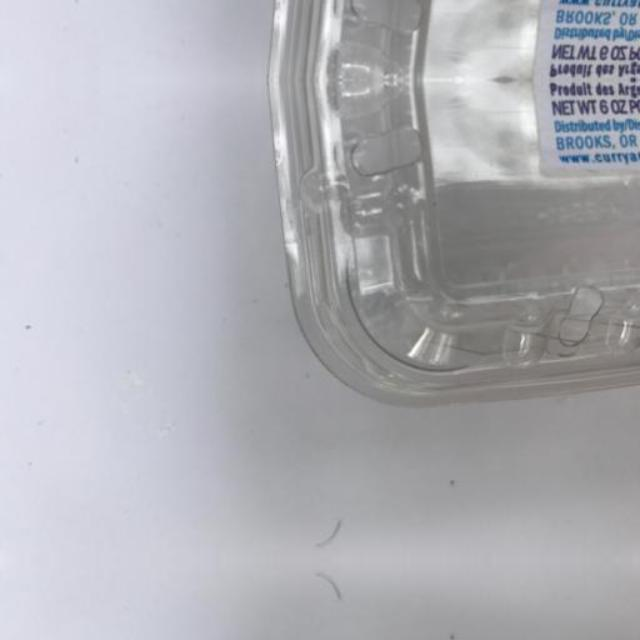Plastic: (236, 80, 636, 476), (235, 0, 636, 80)
